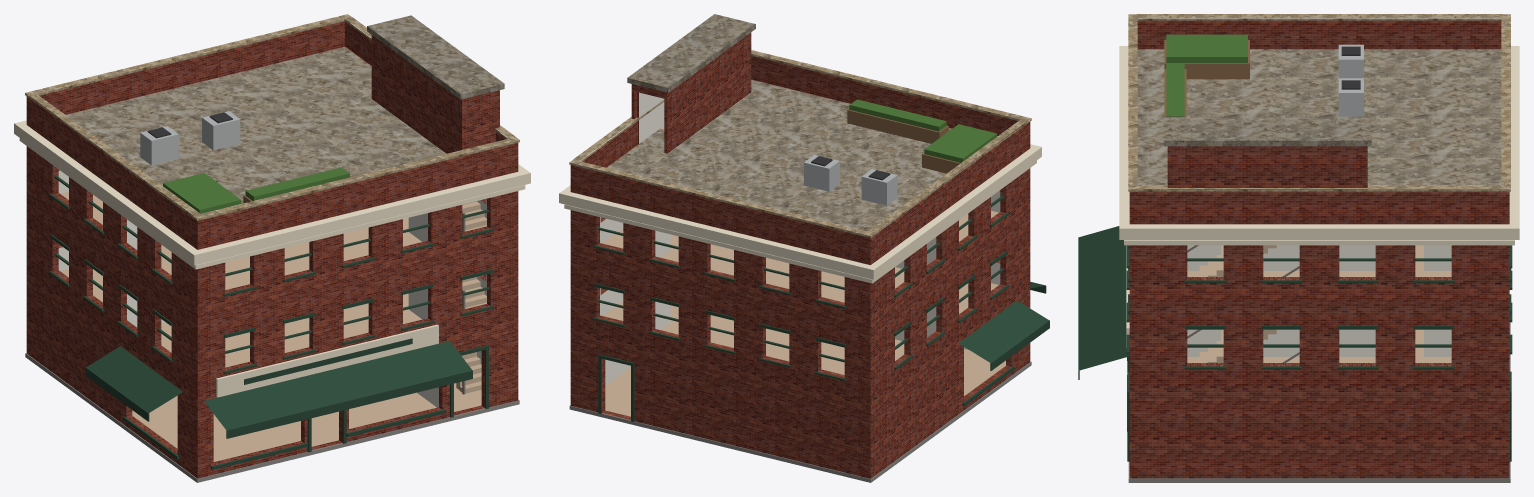
The model's file is ns-corner-store.towns-v2.lod0.glb.
The picture shows the model from 3 angles, left to right: view 1: azimuth 30°, elevation 25°; view 2: azimuth 150°, elevation 25°; view 3: azimuth 270°, elevation 25°; orthographic projection. The views are drawn at different scales.
Parts seen in each view (by area): view 1: ns-corner-store; view 2: ns-corner-store; view 3: ns-corner-store.
Part boxes in pixels (<box>): ns-corner-store: <box>14,14,530,482</box>; ns-corner-store: <box>559,14,1049,482</box>; ns-corner-store: <box>1078,14,1519,482</box>.
Size of the model in its own units: 14.74 by 11.97 by 13.94.
Materials: 5 (2 with a texture image).
